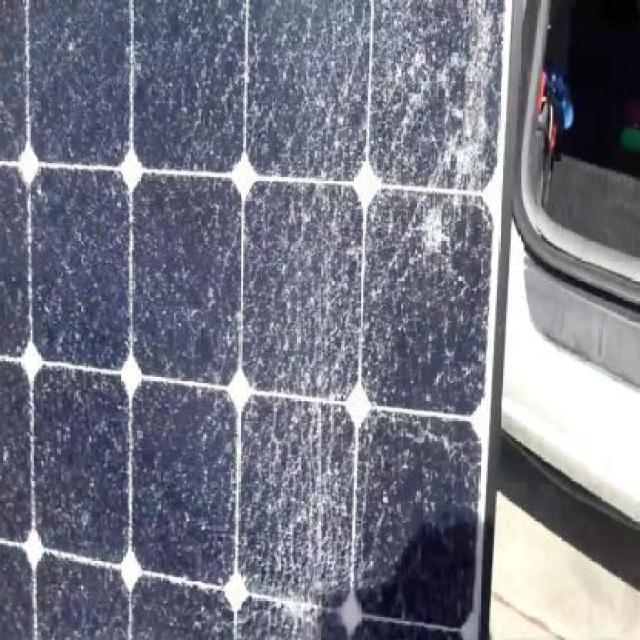cracked: (3, 3, 477, 640)
